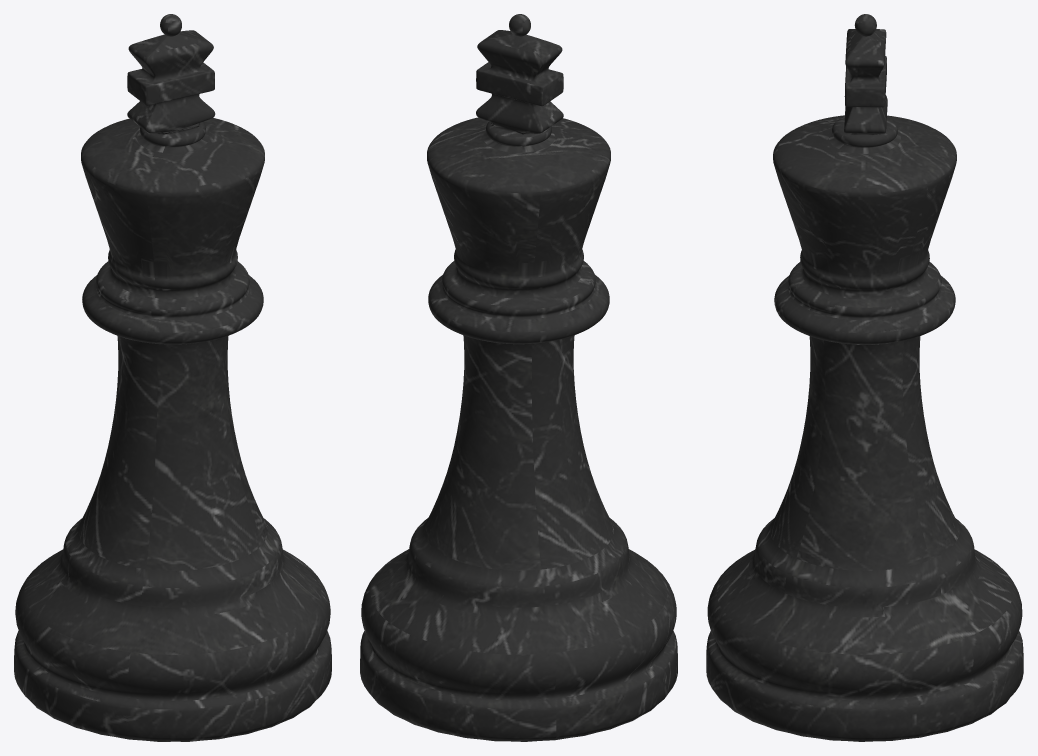
Rendered from BKing.glb.
The picture shows the model from 3 angles, left to right: view 1: azimuth 30°, elevation 25°; view 2: azimuth 150°, elevation 25°; view 3: azimuth 270°, elevation 25°; orthographic projection.
Parts seen in each view (by area): view 1: Circle.001; view 2: Circle.001; view 3: Circle.001.
Boxes of the visible parts, bbox=[...] form: Circle.001: bbox=[14, 14, 331, 741]; Circle.001: bbox=[360, 14, 677, 741]; Circle.001: bbox=[706, 14, 1023, 741].
Bounding box in the file's own units: 3.27 × 7.54 × 3.27.
1 material, 1 textured.
